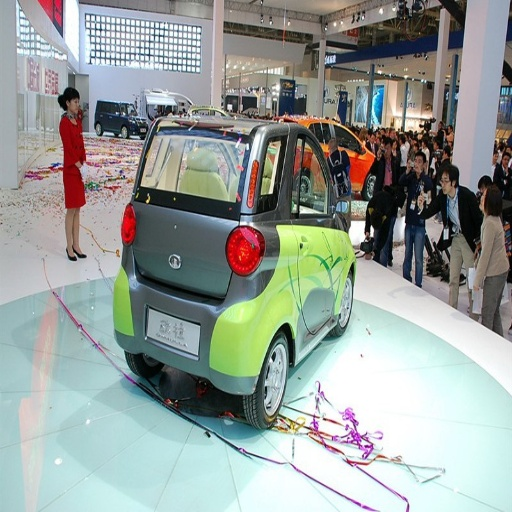back_bumper: (115, 261, 268, 393)
back_right_door: (297, 237, 326, 314)
trunk: (132, 188, 237, 322)
